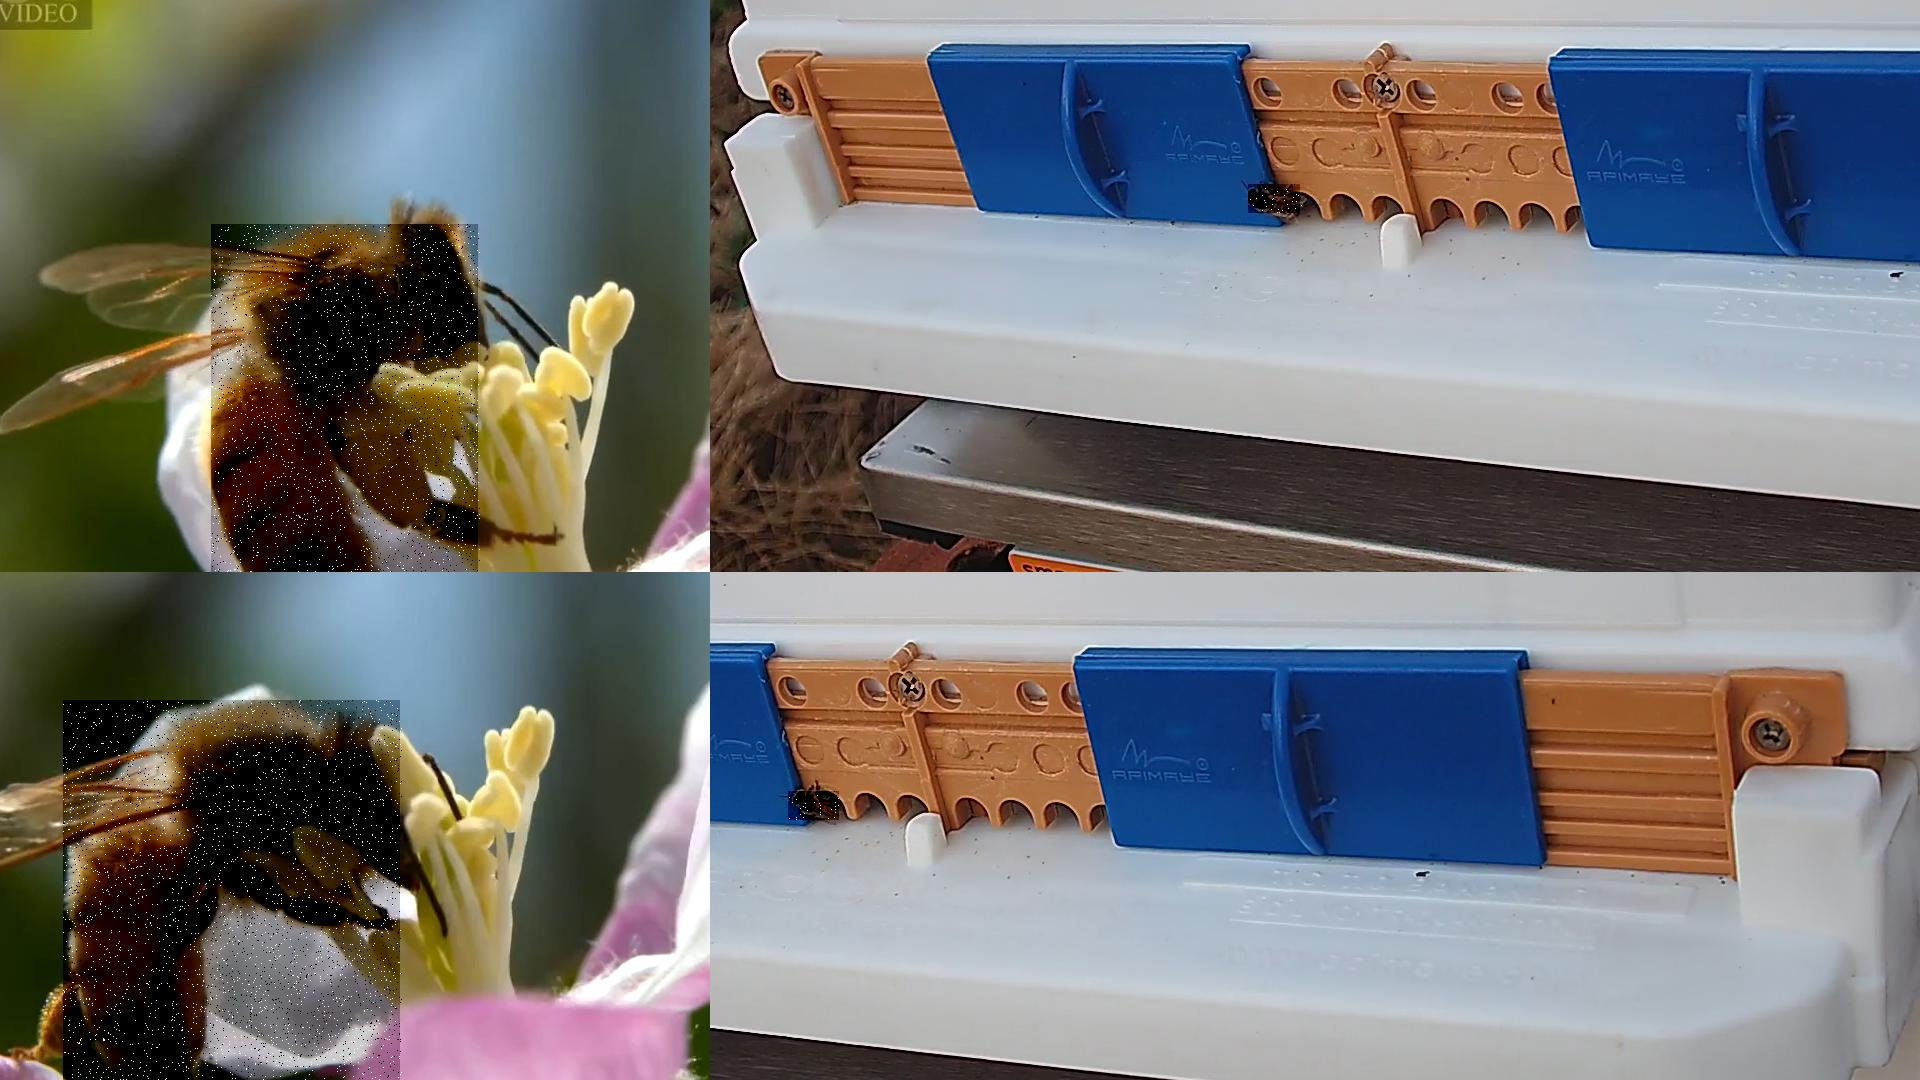bee: (211, 224, 483, 571), (1249, 185, 1304, 214), (789, 791, 840, 822)
pollenbee: (63, 700, 404, 1079)
